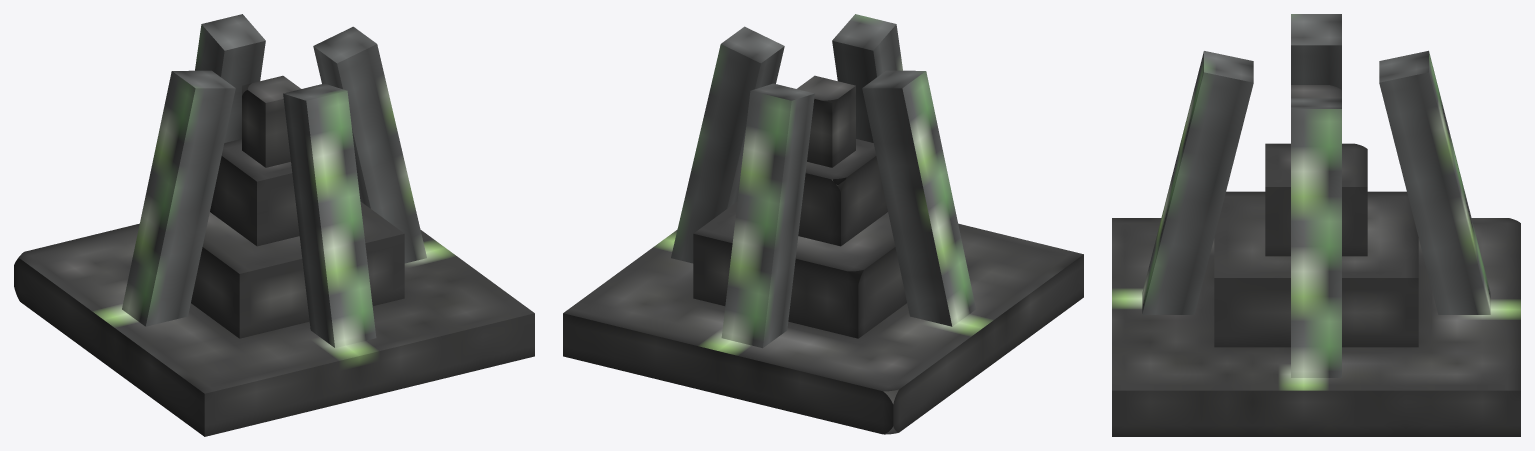
The model's file is ModelMasterRoutingNodeBase.obj.
The picture shows the model from 3 angles, left to right: view 1: azimuth 30°, elevation 25°; view 2: azimuth 150°, elevation 25°; view 3: azimuth 270°, elevation 25°; orthographic projection. The views are drawn at different scales.
Parts seen in each view (by area): view 1: ModelMasterRoutingNodeBase; view 2: ModelMasterRoutingNodeBase; view 3: ModelMasterRoutingNodeBase.
Part boxes in pixels (x1,y1,x2,y2): ModelMasterRoutingNodeBase: [14, 14, 534, 436]; ModelMasterRoutingNodeBase: [563, 14, 1083, 434]; ModelMasterRoutingNodeBase: [1112, 14, 1520, 436].
Bounding box in the file's own units: 0.5 × 0.39 × 0.5.
